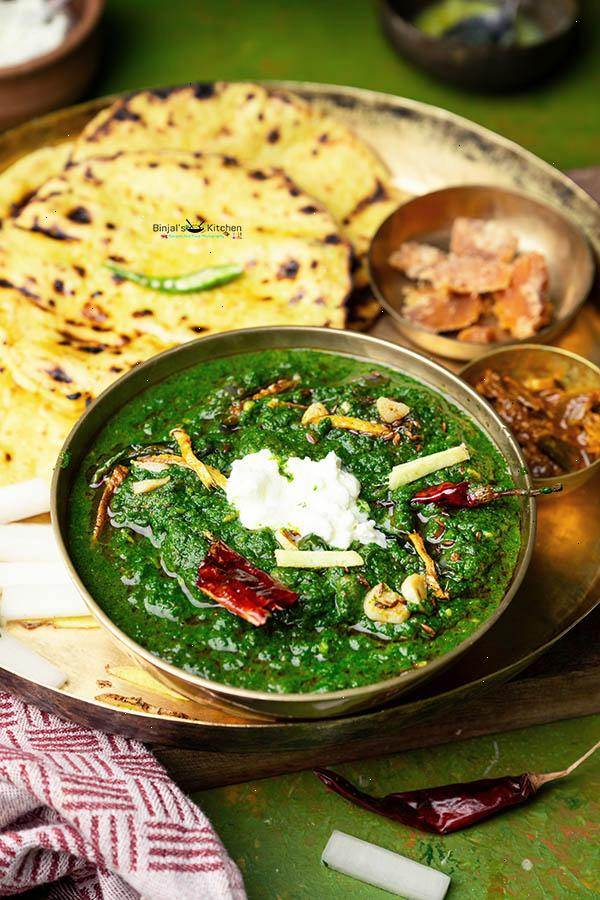saag: (70, 354, 527, 689)
